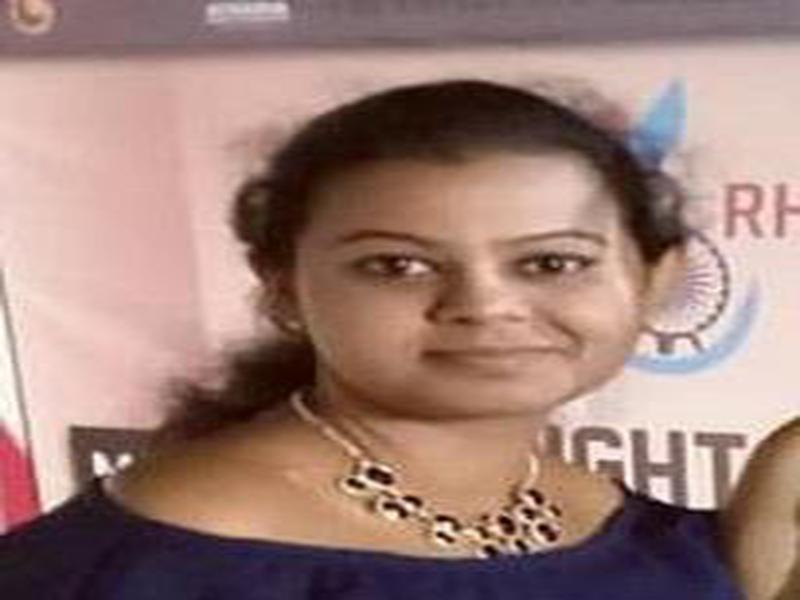without_mask: (299, 180, 633, 418)
